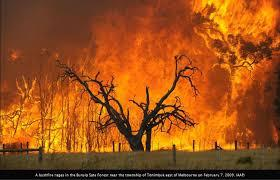fire: (1, 1, 278, 153)
